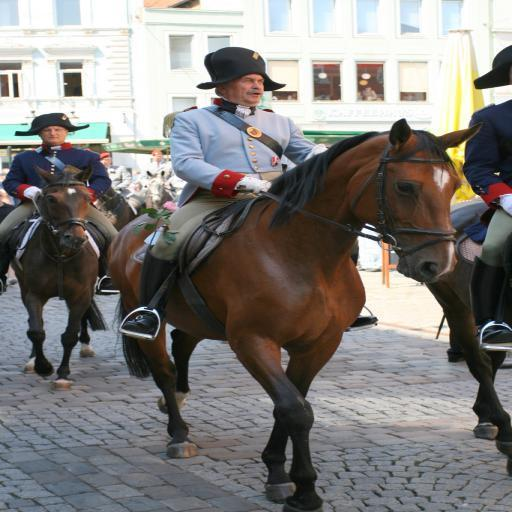horse: (104, 116, 486, 512), (0, 162, 122, 393), (418, 196, 512, 480), (142, 170, 174, 210)
